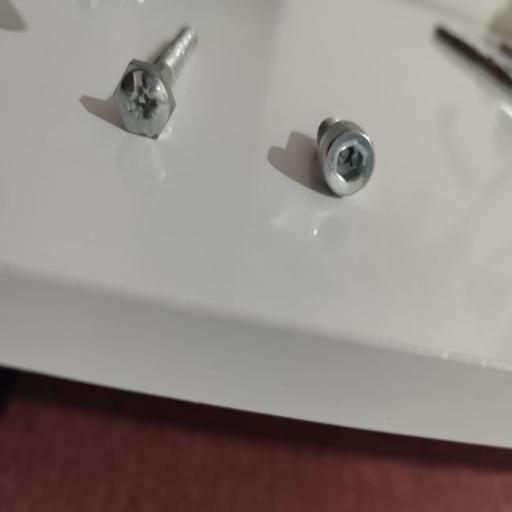Hex-Allen: (317, 117, 377, 198)
Pozidriv: (113, 55, 175, 140)
